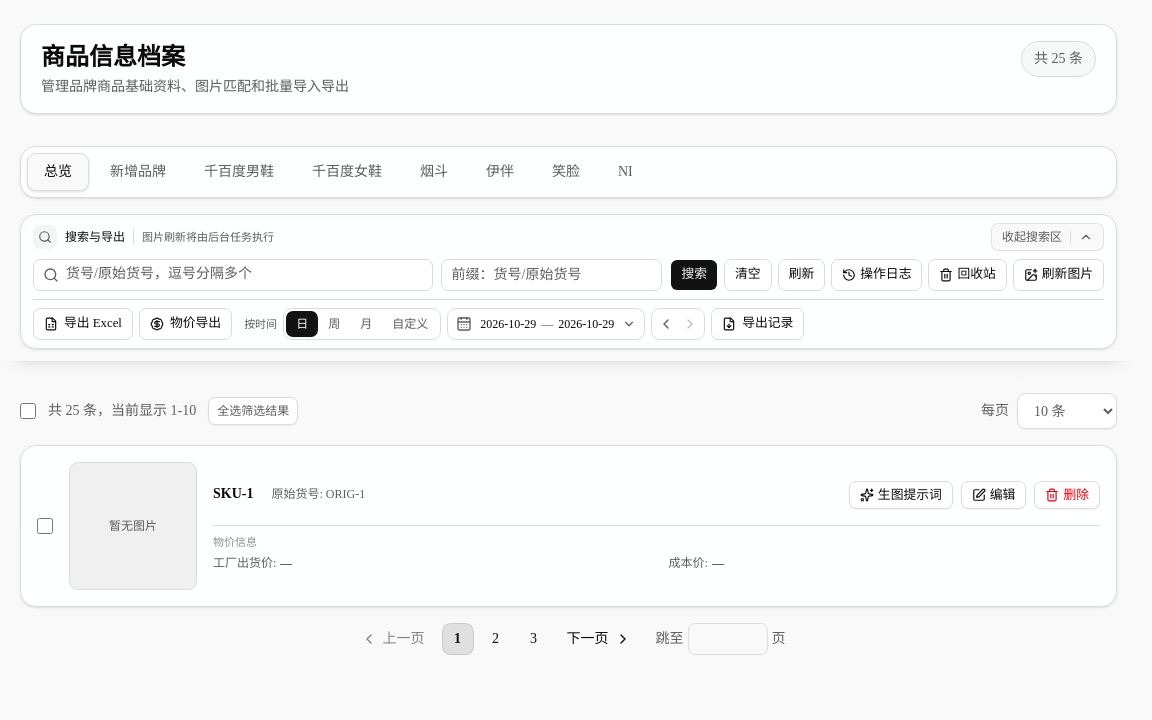
it: current-page deselection and page-size changes preserve other pages
The width and height of the screenshot is (1152, 720).
Click the checkbox named "选择当前页全部商品".
click(28, 411)  # box [20, 403, 36, 419]
(page scrolled)
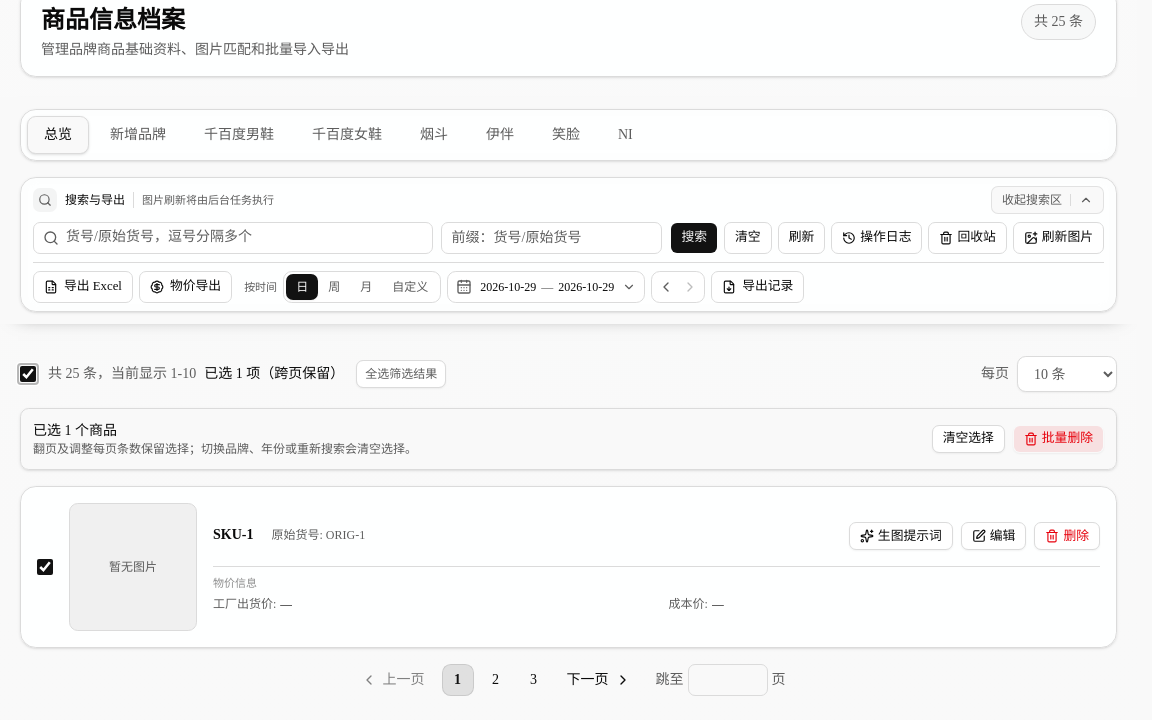
Click the button with aria-label "Go to next page".
click(598, 680)  # box [556, 664, 640, 696]
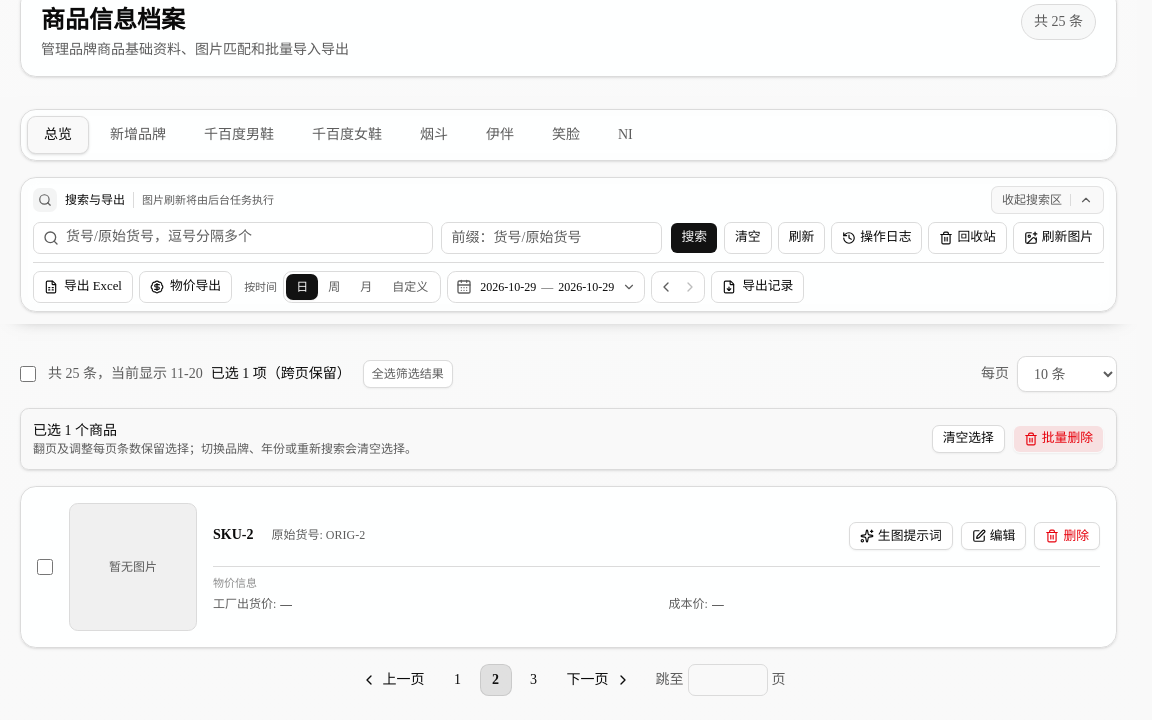
Expected: the checkbox named "选择商品 SKU-2" is enabled, [37, 559, 53, 575]
Click the checkbox named "选择当前页全部商品".
click(28, 374)  # box [20, 366, 36, 382]
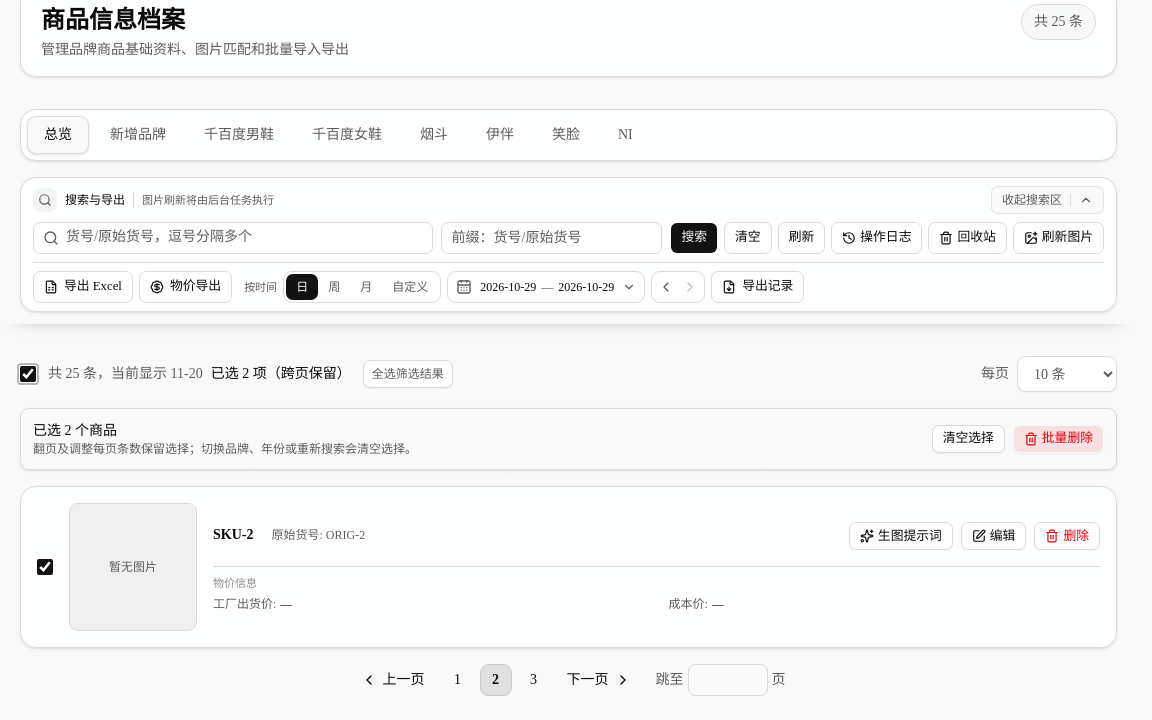
Expected: the text "已选 2 个商品" is shown, [33, 423, 117, 438]
Click the checkbox named "选择当前页全部商品".
click(28, 374)  # box [20, 366, 36, 382]
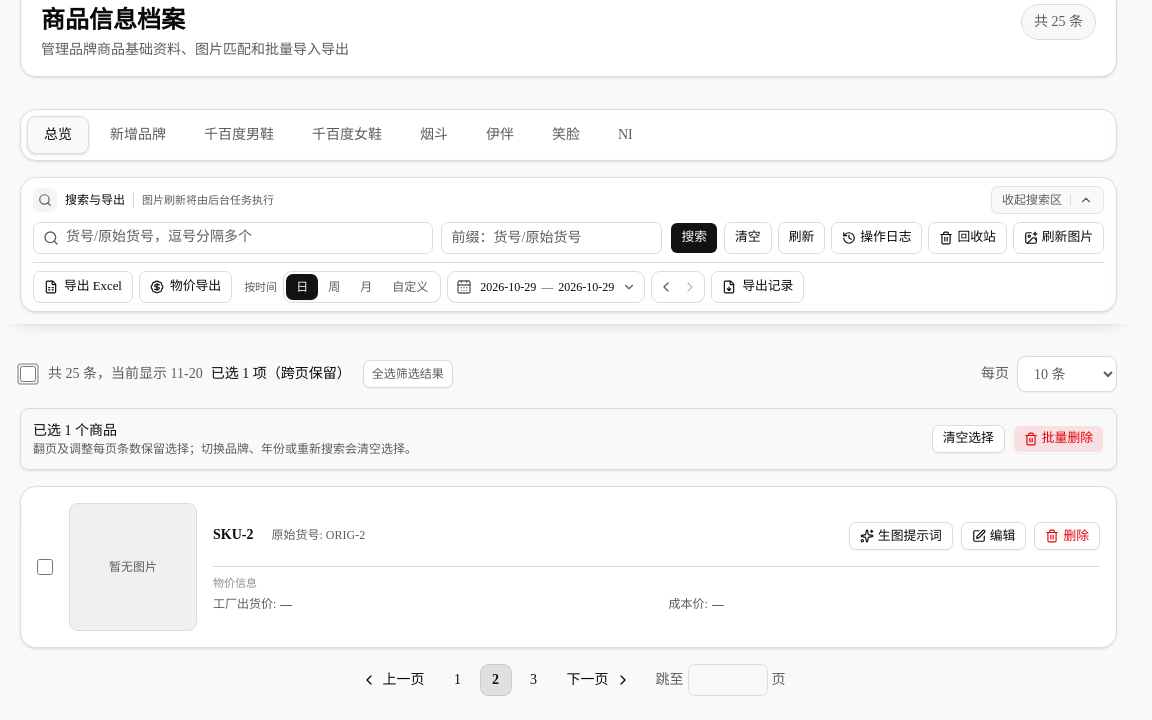
Expected: the text "已选 1 个商品" is shown, [33, 423, 117, 438]
Select "50 条" in the dropdown named "每页条数" at (1067, 374), box [1017, 356, 1117, 392]
(page scrolled)
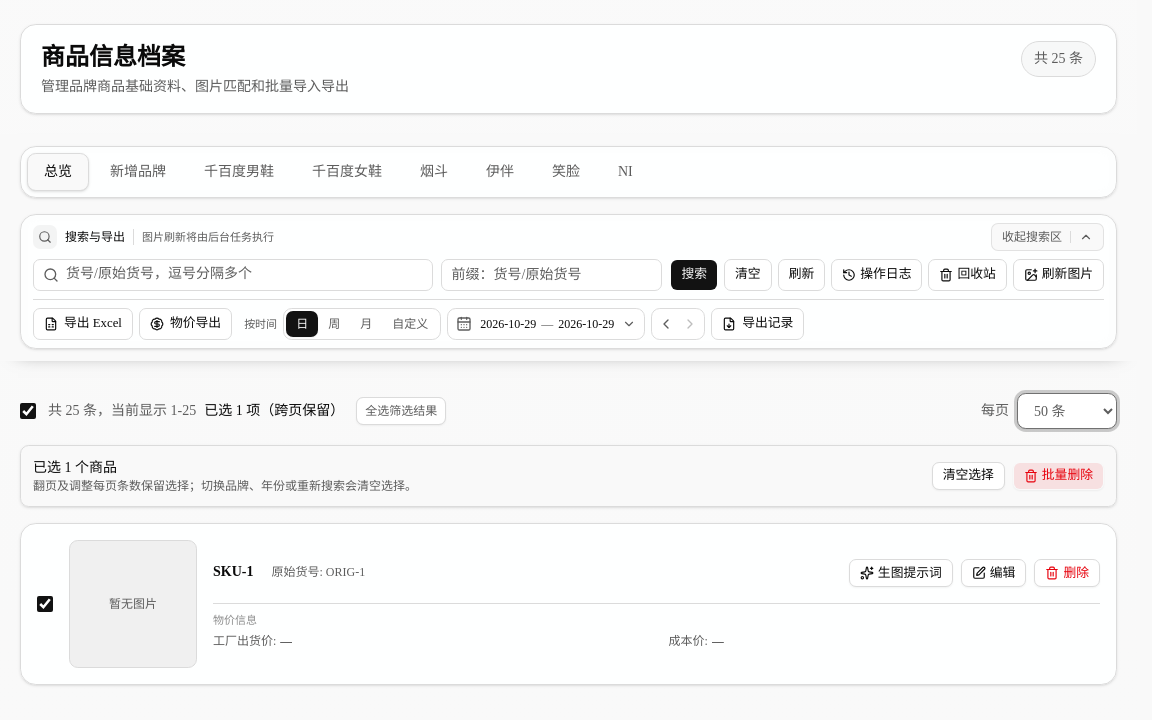
Expected: the text "已选 1 个商品" is shown, [33, 460, 117, 475]
Expected: the checkbox named "选择商品 SKU-1" is checked, [37, 596, 53, 612]
